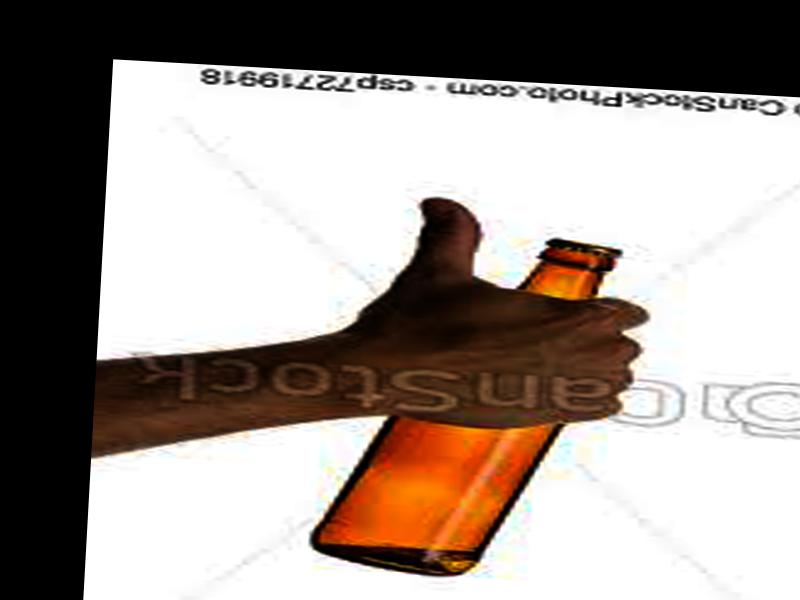Beer: (308, 228, 617, 583)
